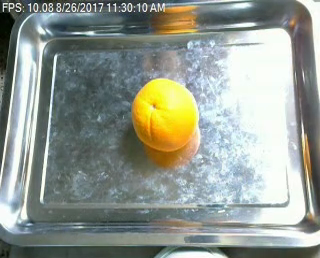Orange: (132, 76, 199, 152)
